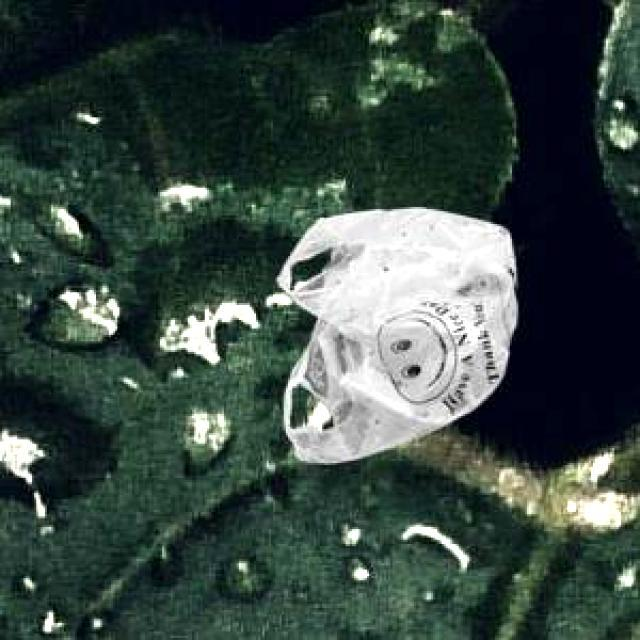Plastic_Bag: (274, 206, 513, 460)
